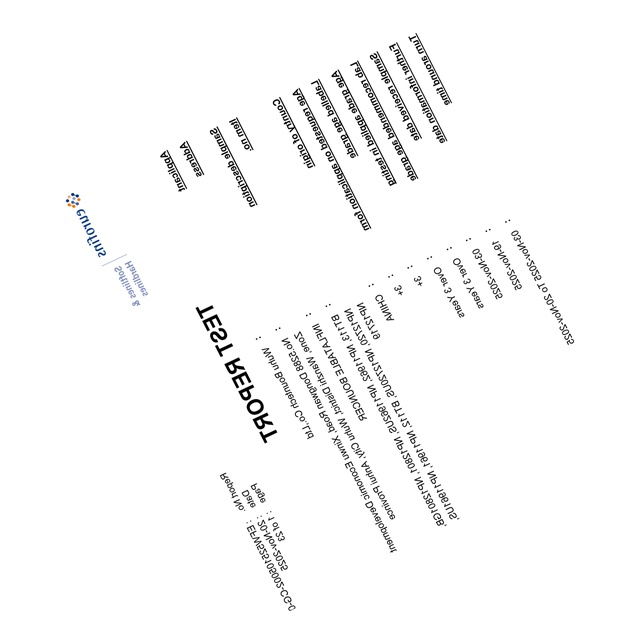eurofins: (58, 186, 112, 264)
